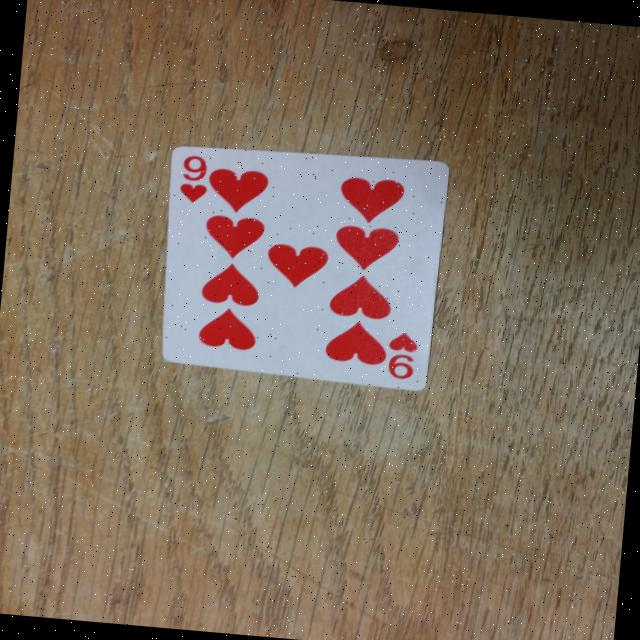9h: (368, 324, 431, 388), (164, 148, 224, 209)
